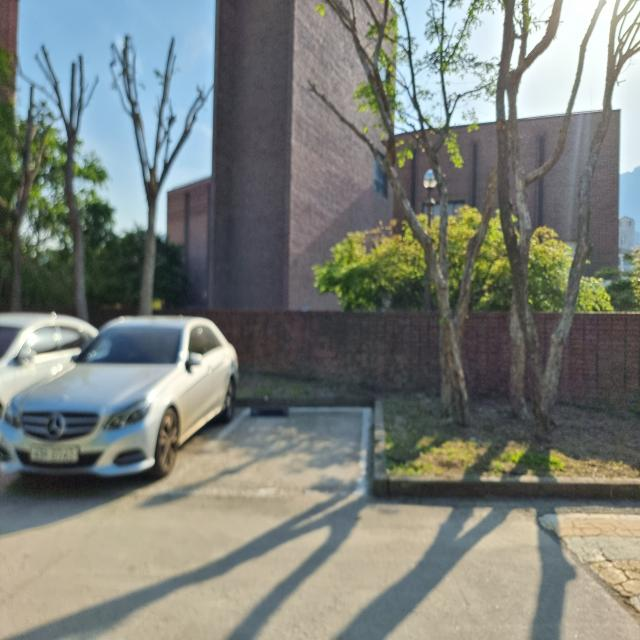empty: (146, 401, 373, 493)
occupied: (3, 318, 227, 486)
